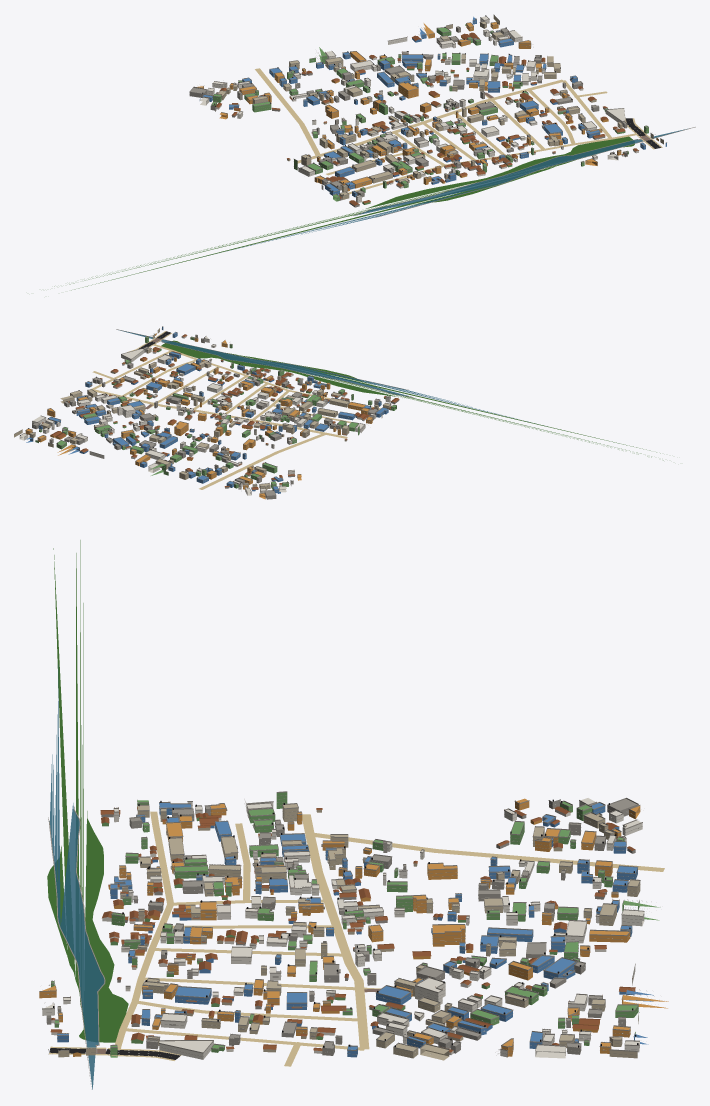
File: zone_t-3_2.glb
The picture shows the model from 3 angles, top to bottom: view 1: azimuth 30°, elevation 25°; view 2: azimuth 150°, elevation 25°; view 3: azimuth 270°, elevation 25°; orthographic projection. The views are drawn at different scales.
Visible parts, largest first — view 1: parapet_t-3_2, bld_peinture_blanc_t-3_2-col, bld_peinture_bleu_t-3_2-col, bld_peinture_ocre_t-3_2-col, bld_peinture_ecaillee_t-3_2-col, bld_peinture_vert_t-3_2-col, zone_humide_t-3_2, bld_beton_t-3_2-col, toit_tole_t-3_2, route_residential_terre_t-3_2, zone_eau_t-3_2, route_tertiary_terre_t-3_2 (+2 smaller); view 2: parapet_t-3_2, bld_peinture_blanc_t-3_2-col, bld_peinture_bleu_t-3_2-col, bld_peinture_ocre_t-3_2-col, bld_peinture_ecaillee_t-3_2-col, bld_peinture_vert_t-3_2-col, zone_humide_t-3_2, bld_beton_t-3_2-col, toit_tole_t-3_2, route_residential_terre_t-3_2, zone_eau_t-3_2, route_tertiary_terre_t-3_2 (+2 smaller); view 3: parapet_t-3_2, bld_peinture_blanc_t-3_2-col, bld_peinture_ocre_t-3_2-col, bld_peinture_ecaillee_t-3_2-col, bld_peinture_bleu_t-3_2-col, bld_peinture_vert_t-3_2-col, zone_humide_t-3_2, bld_beton_t-3_2-col, toit_tole_t-3_2, route_residential_terre_t-3_2, zone_eau_t-3_2, route_tertiary_terre_t-3_2 (+1 smaller).
Boxes of the visible parts, x1,y1,x2,y2 form: parapet_t-3_2: [189, 14, 666, 197]; bld_peinture_blanc_t-3_2-col: [200, 16, 638, 202]; bld_peinture_bleu_t-3_2-col: [199, 17, 666, 197]; bld_peinture_ocre_t-3_2-col: [197, 22, 658, 191]; bld_peinture_ecaillee_t-3_2-col: [216, 15, 663, 199]; bld_peinture_vert_t-3_2-col: [211, 24, 648, 204]; zone_humide_t-3_2: [54, 136, 634, 290]; bld_beton_t-3_2-col: [189, 27, 627, 207]; toit_tole_t-3_2: [216, 32, 638, 205]; route_residential_terre_t-3_2: [326, 80, 637, 195]; zone_eau_t-3_2: [227, 128, 687, 251]; route_tertiary_terre_t-3_2: [255, 68, 564, 163]; parapet_t-3_2: [14, 326, 396, 496]; bld_peinture_blanc_t-3_2-col: [19, 336, 390, 495]; bld_peinture_bleu_t-3_2-col: [26, 327, 388, 493]; bld_peinture_ocre_t-3_2-col: [25, 333, 372, 499]; bld_peinture_ecaillee_t-3_2-col: [14, 329, 391, 489]; bld_peinture_vert_t-3_2-col: [35, 336, 396, 489]; zone_humide_t-3_2: [161, 340, 663, 460]; bld_beton_t-3_2-col: [32, 334, 399, 499]; toit_tole_t-3_2: [42, 334, 399, 489]; route_residential_terre_t-3_2: [91, 344, 380, 423]; zone_eau_t-3_2: [118, 330, 528, 421]; route_tertiary_terre_t-3_2: [92, 389, 347, 489]; parapet_t-3_2: [39, 791, 654, 1053]; bld_peinture_blanc_t-3_2-col: [42, 798, 644, 1059]; bld_peinture_ocre_t-3_2-col: [39, 798, 668, 1056]; bld_peinture_ecaillee_t-3_2-col: [58, 804, 640, 1060]; bld_peinture_bleu_t-3_2-col: [57, 803, 653, 1057]; bld_peinture_vert_t-3_2-col: [51, 792, 660, 1057]; zone_humide_t-3_2: [47, 540, 128, 1042]; bld_beton_t-3_2-col: [46, 799, 636, 1055]; toit_tole_t-3_2: [50, 806, 635, 1052]; route_residential_terre_t-3_2: [115, 811, 380, 1066]; zone_eau_t-3_2: [49, 665, 104, 1089]; route_tertiary_terre_t-3_2: [302, 814, 664, 1049].
Size of the model in its own units: 1128 by 15.9 by 536.
